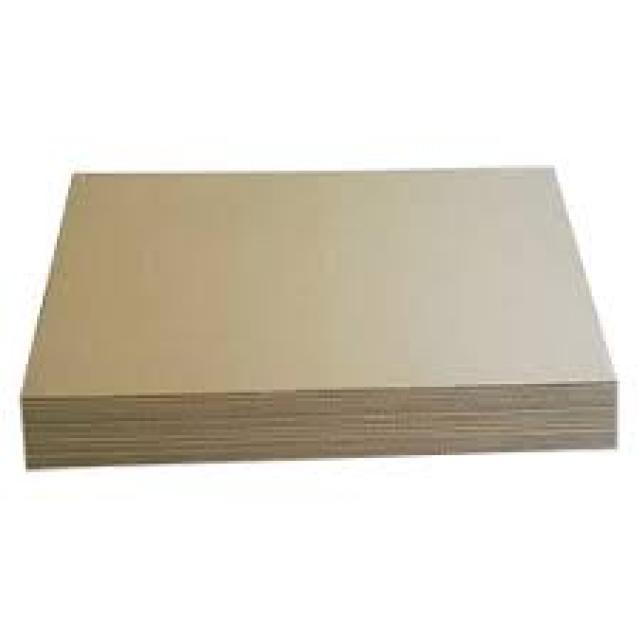Cardboard: (19, 165, 618, 466)
